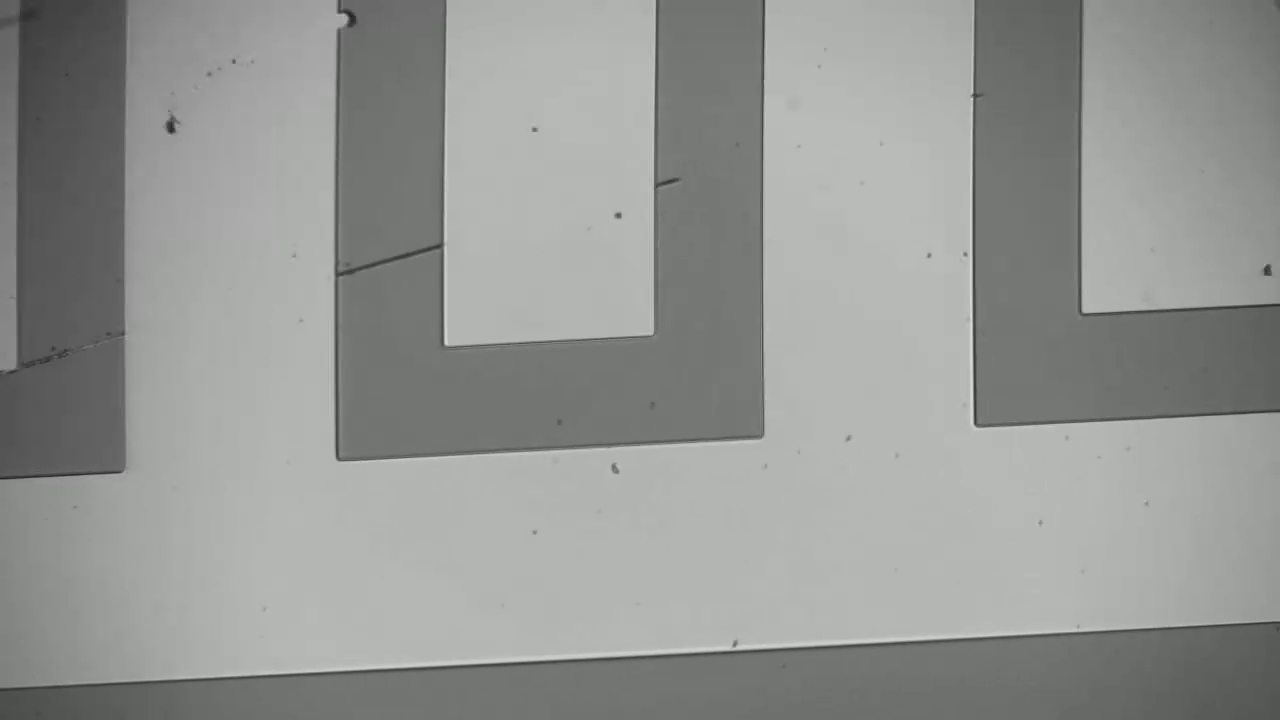scratch: (20, 329, 123, 369), (336, 243, 437, 273)
